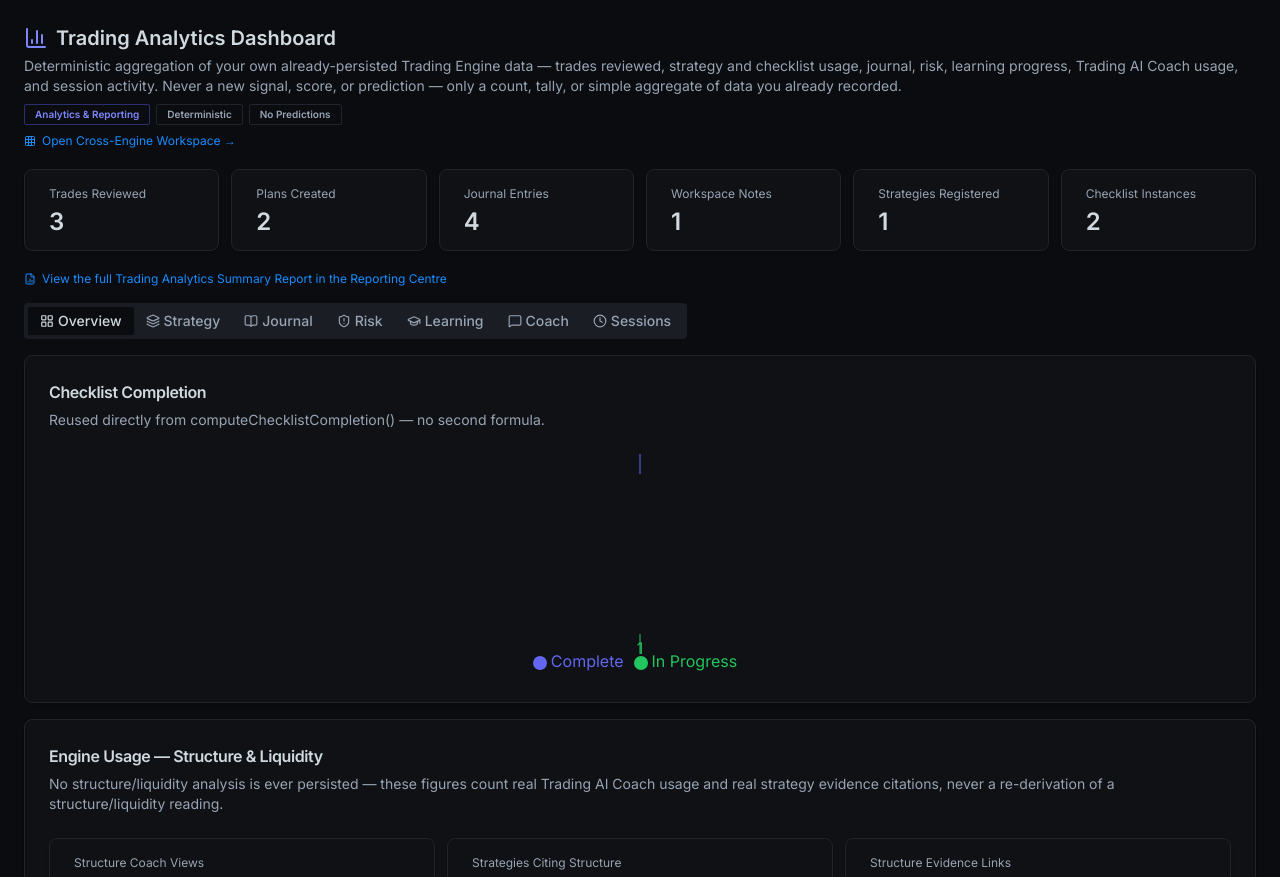
Scenario: TradingAnalyticsDashboard page › Strategy tab shows real evidence-usage chart and checklist-by-strategy table
Step 1. Click the tab with test id "tab-strategy-analytics" → (183, 321), box [134, 307, 232, 335]
(page scrolled)
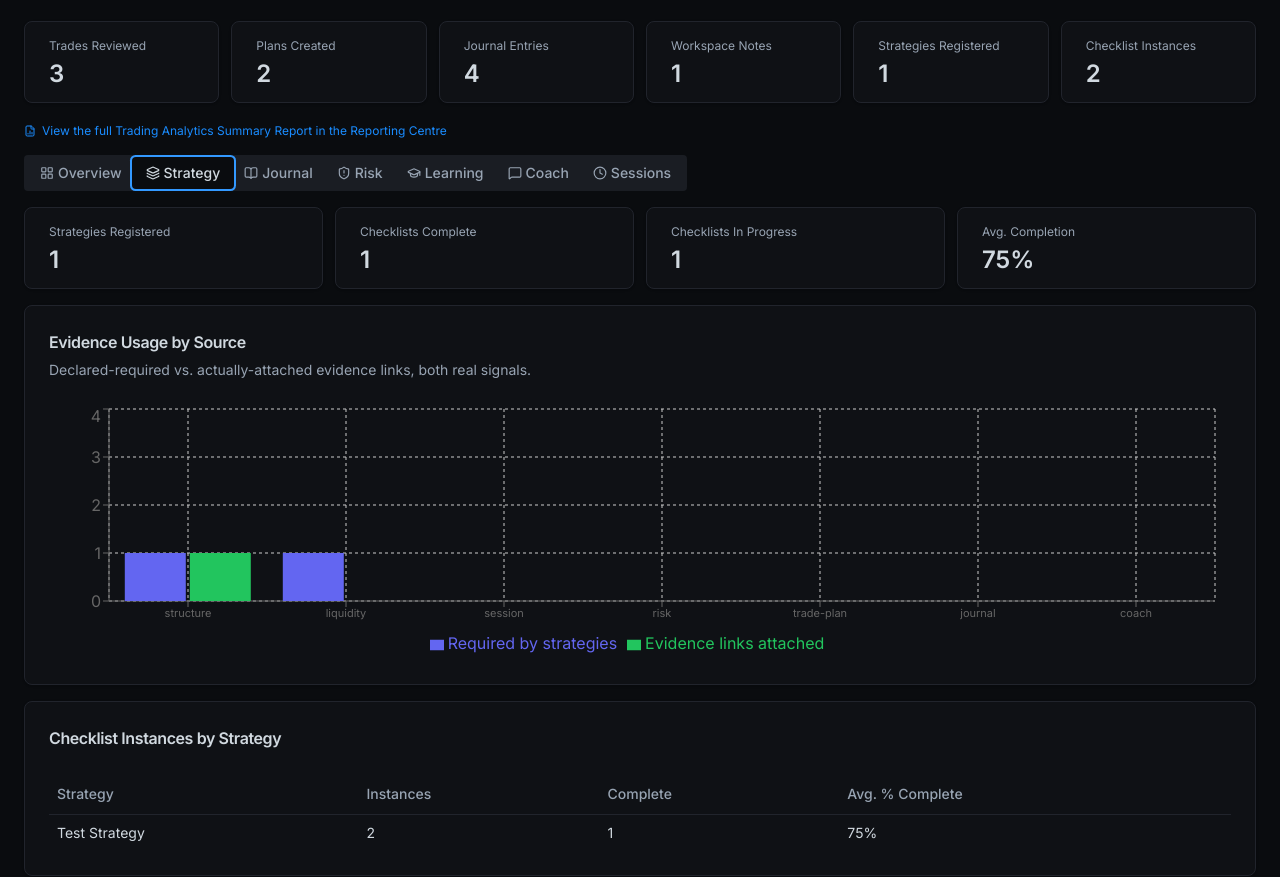
Check: the element with test id "chart-evidence-usage" is shown, box [49, 404, 1231, 660]
Check: the text "Test Strategy" is shown, box [49, 814, 358, 850]
